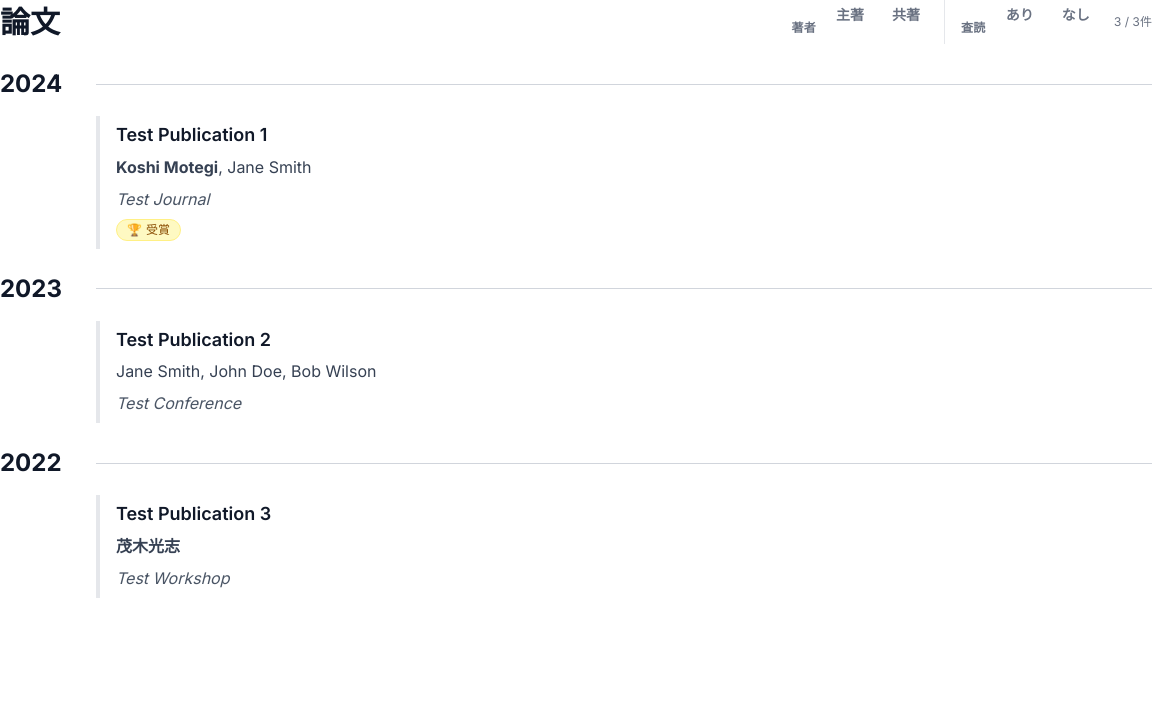
Test: PublicationList › removes modal badges while preserving the award source link
This screenshot has width=1152, height=720.
Click the button with aria-label "Test Publication 1の詳細を表示" at {"x": 192, "y": 134}, box [96,116,1151,248]
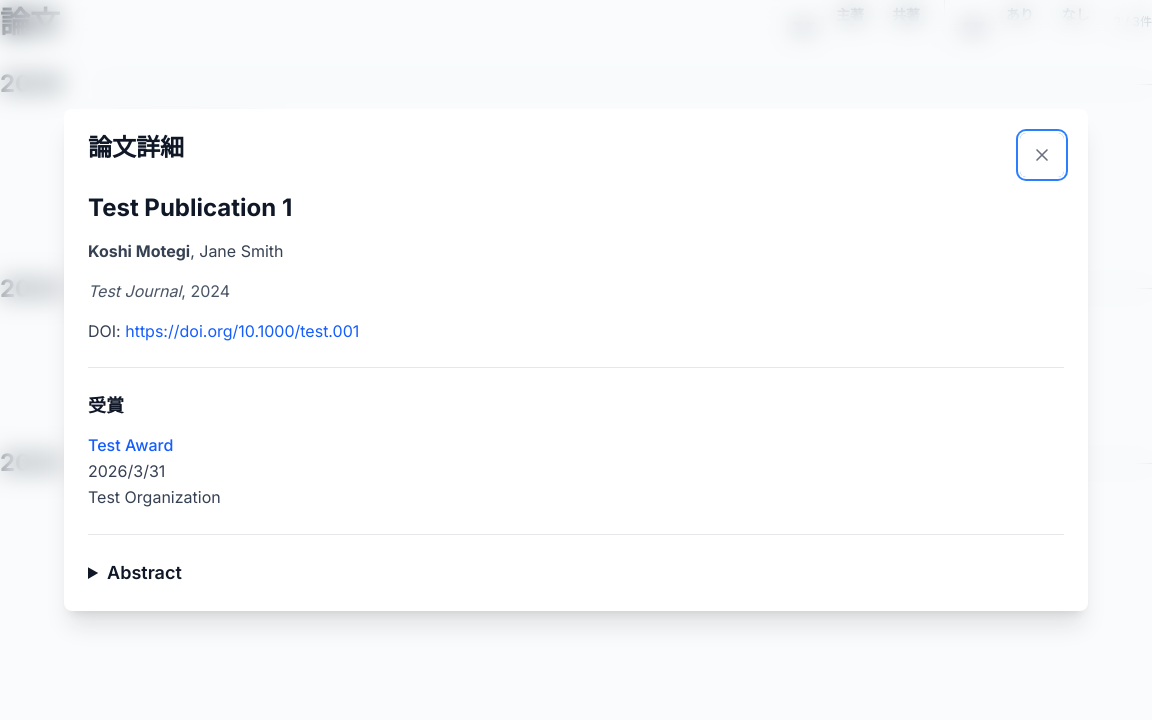
Expected: the heading "Abstract" is shown, [107,562,182,583]
Expected: the number of links "Test Award" is 1, [88,435,173,455]
